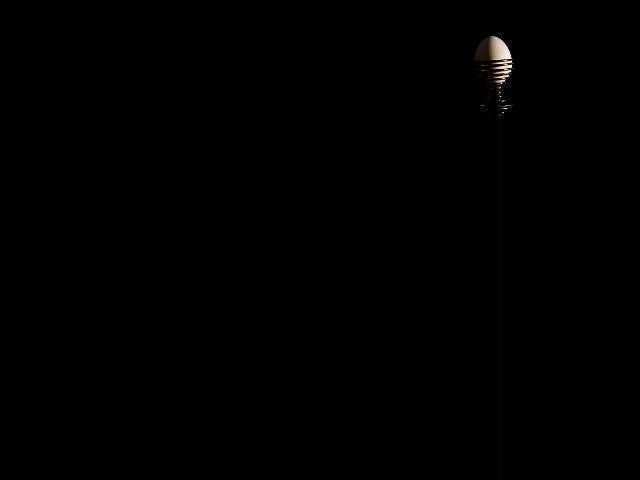egg: (474, 35, 512, 84)
